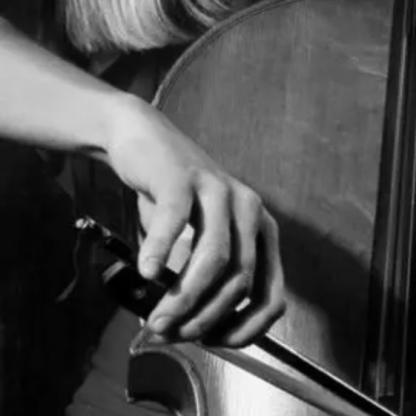good: (118, 150, 300, 358)
